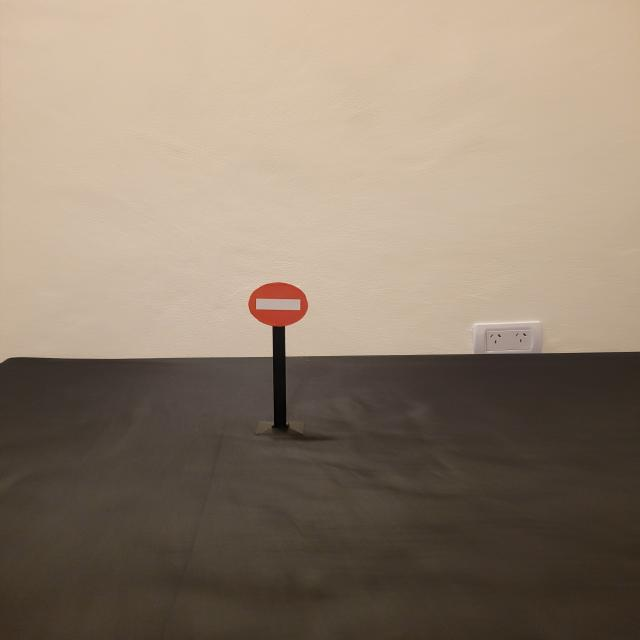no_entry: (248, 282, 309, 327)
